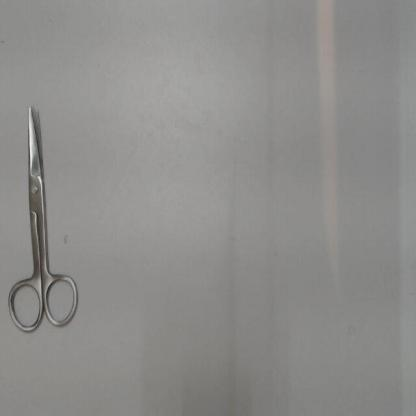Dressing Scissors: (3, 95, 85, 344)
